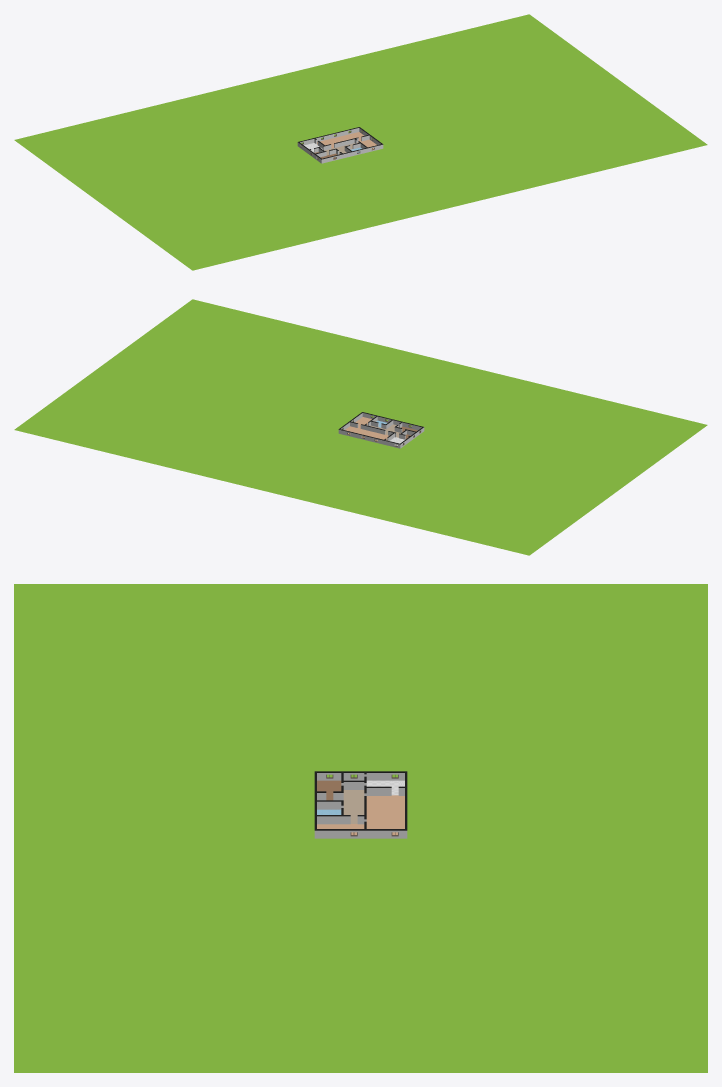
The model's file is SM_House0.fbx.
The picture shows the model from 3 angles, top to bottom: view 1: azimuth 30°, elevation 25°; view 2: azimuth 150°, elevation 25°; view 3: azimuth 270°, elevation 25°; orthographic projection. The views are drawn at different scales.
Parts seen in each view (by area): view 1: House0; view 2: House0; view 3: House0.
Part boxes in pixels (left/top/right/bottom): House0: left=14, top=14, right=707, bottom=270; House0: left=14, top=299, right=707, bottom=555; House0: left=14, top=584, right=707, bottom=1072.
Size of the model in its own units: 50000 by 400 by 30000.
